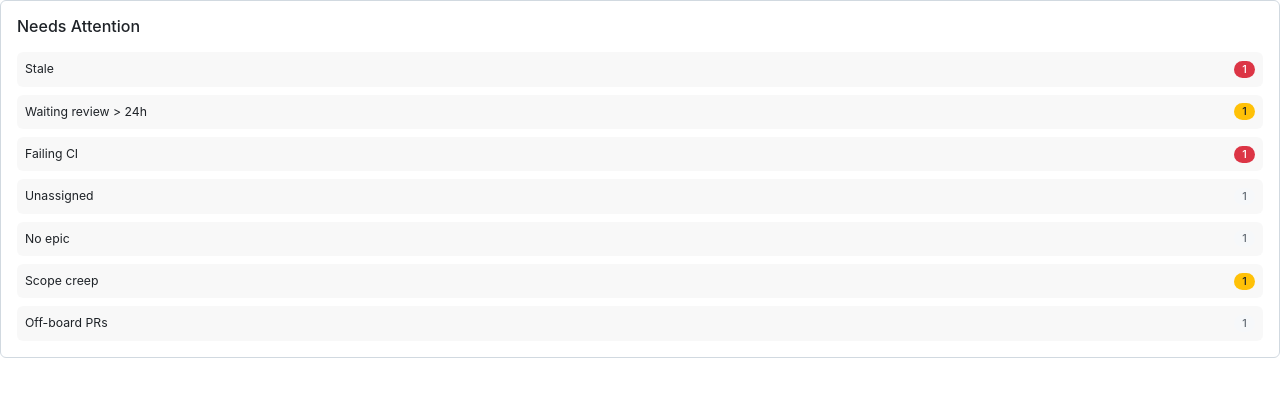
Test case: NeedsAttentionPanel › expands a row to reveal refs when clicked
Expected: the text "Stale" is shown, top-left (25, 61), bottom-right (54, 76)
Click the text "Stale".
click(640, 69)  # box top-left (17, 52), bottom-right (1263, 87)
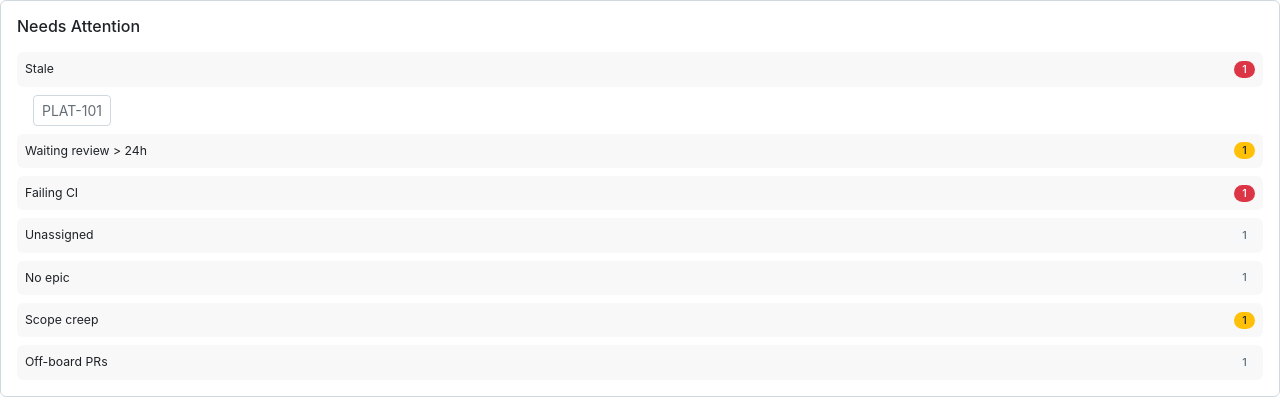
Result: the button "PLAT-101" is shown at top-left (33, 95), bottom-right (111, 126)
